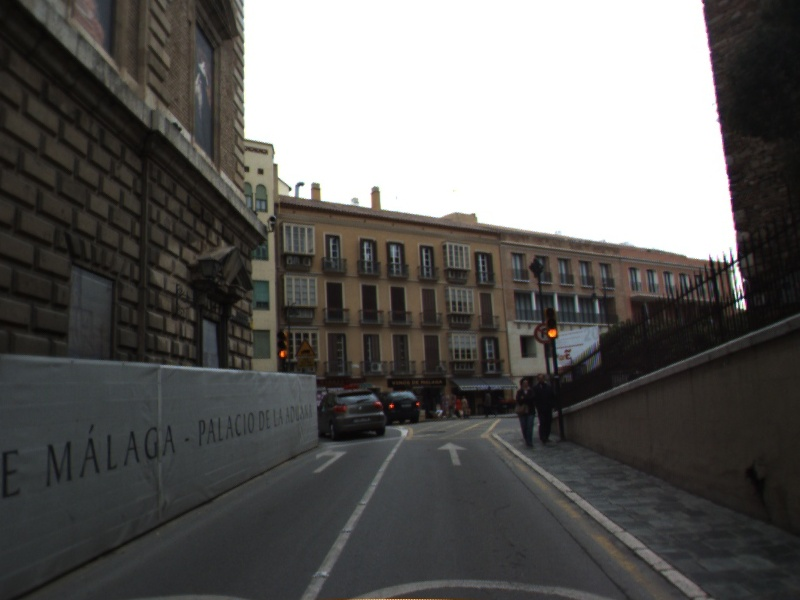LEFT: (311, 447, 350, 475)
STRAIGHT: (435, 440, 470, 467)
